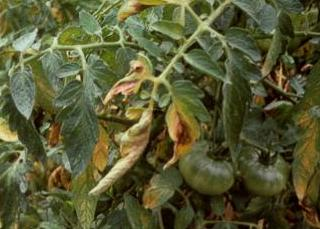Tomato Early blight leaf: (87, 102, 157, 194), (290, 107, 320, 227), (163, 77, 202, 167), (96, 56, 154, 103), (260, 6, 295, 78), (111, 0, 190, 23)
Tomato leaf: (220, 54, 258, 157), (61, 79, 100, 174), (12, 64, 35, 120)
